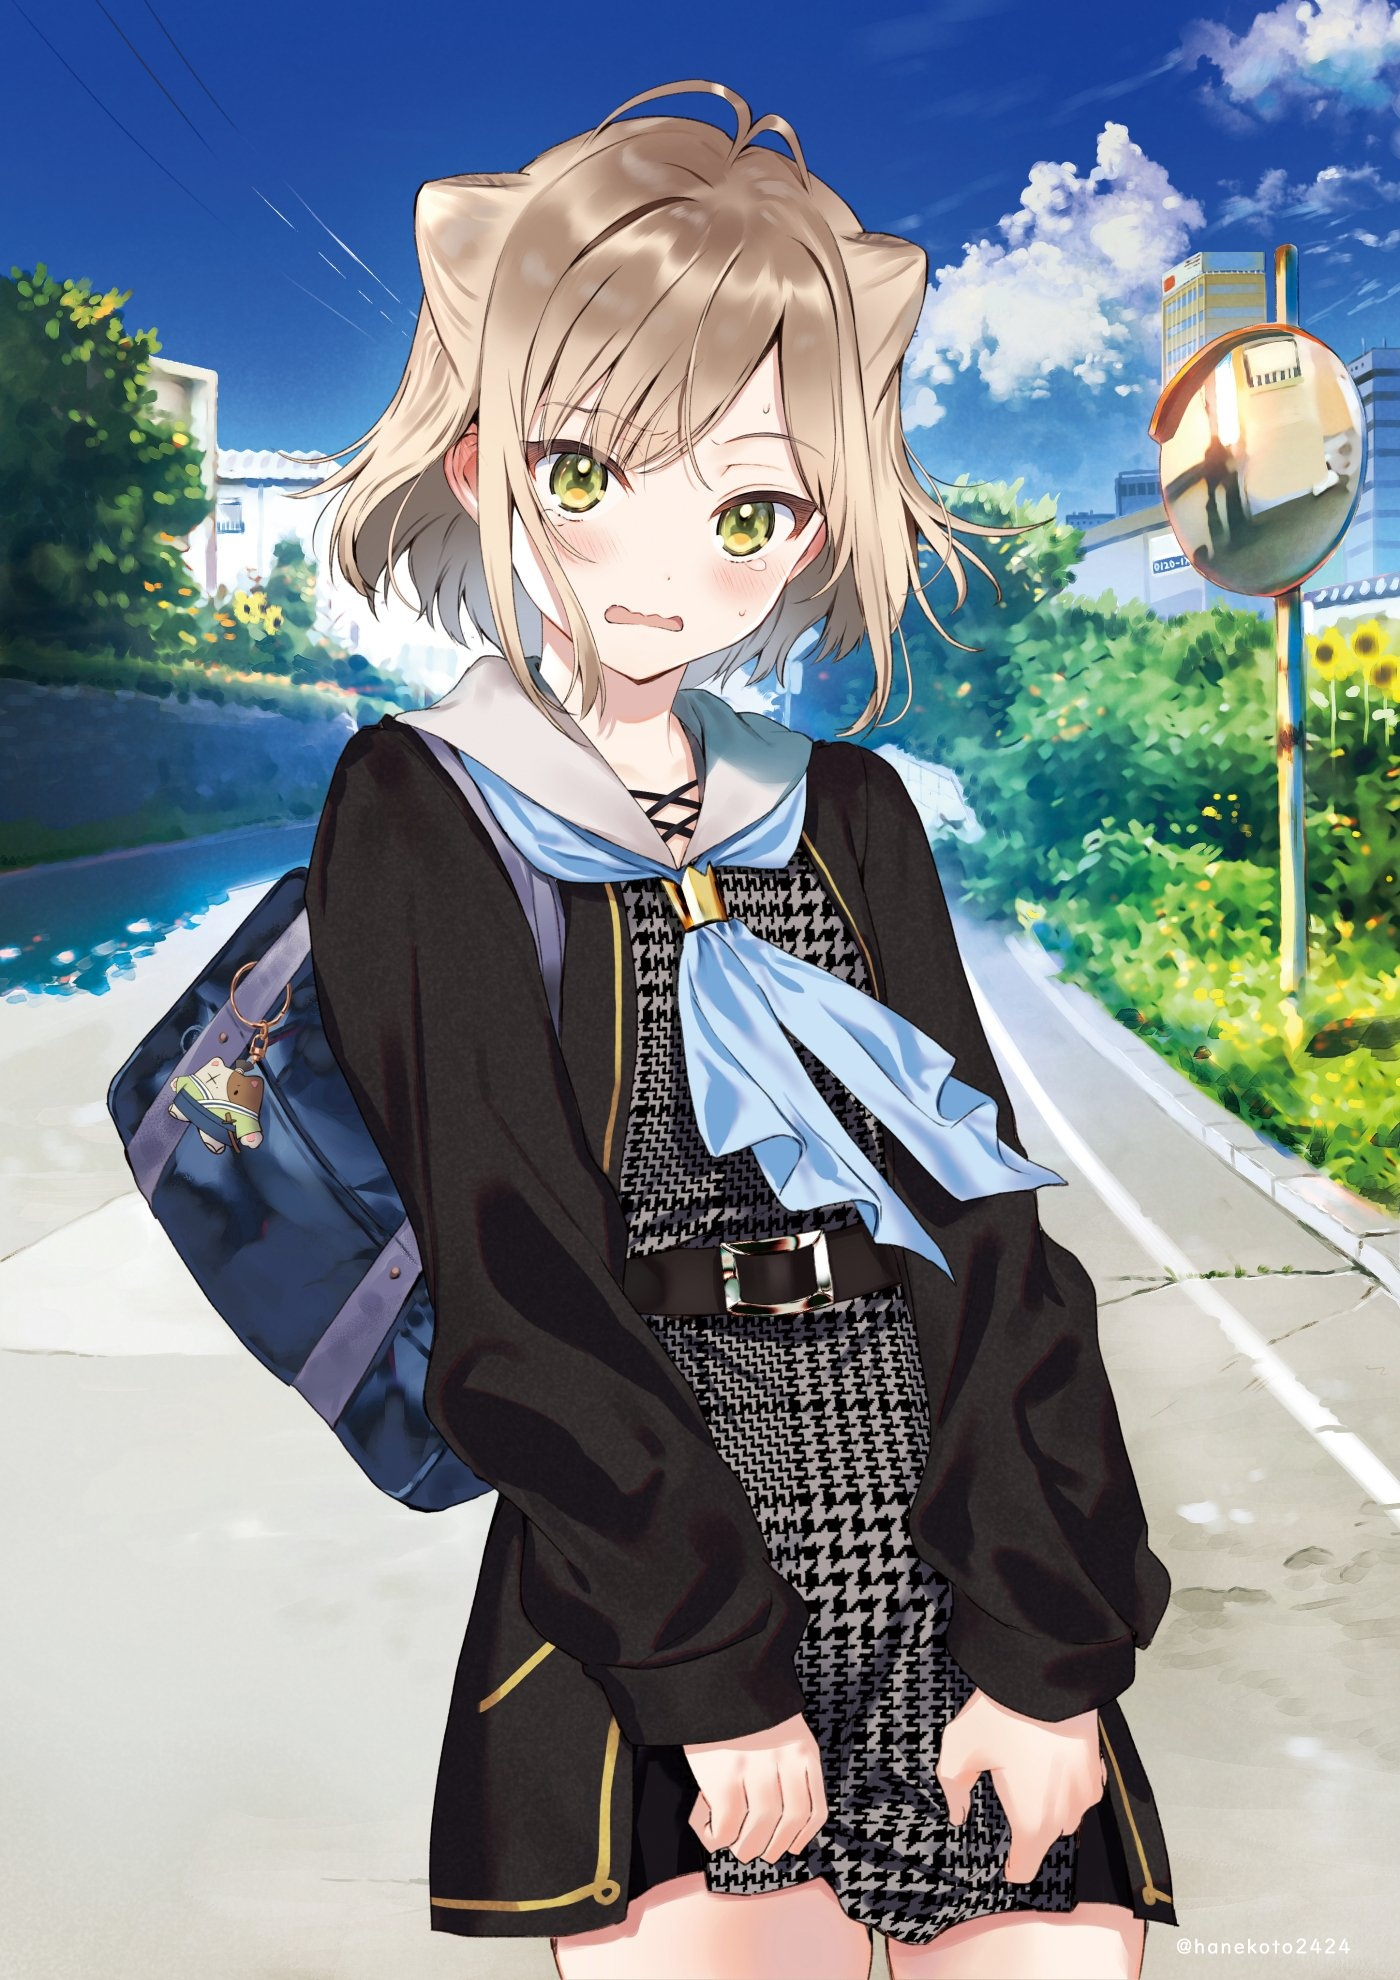纸片人正脸: (429, 73, 943, 726)
